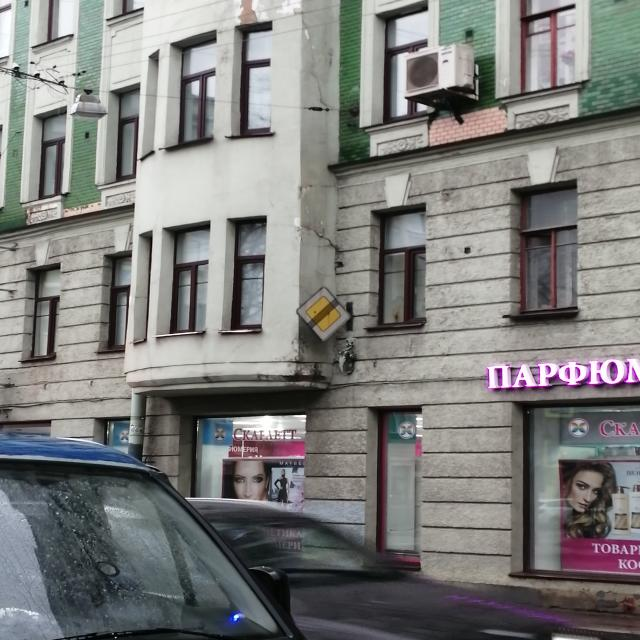road sign: (294, 286, 352, 342)
